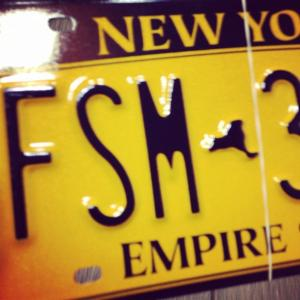Vehicle-registration-plate: (1, 3, 300, 299)
